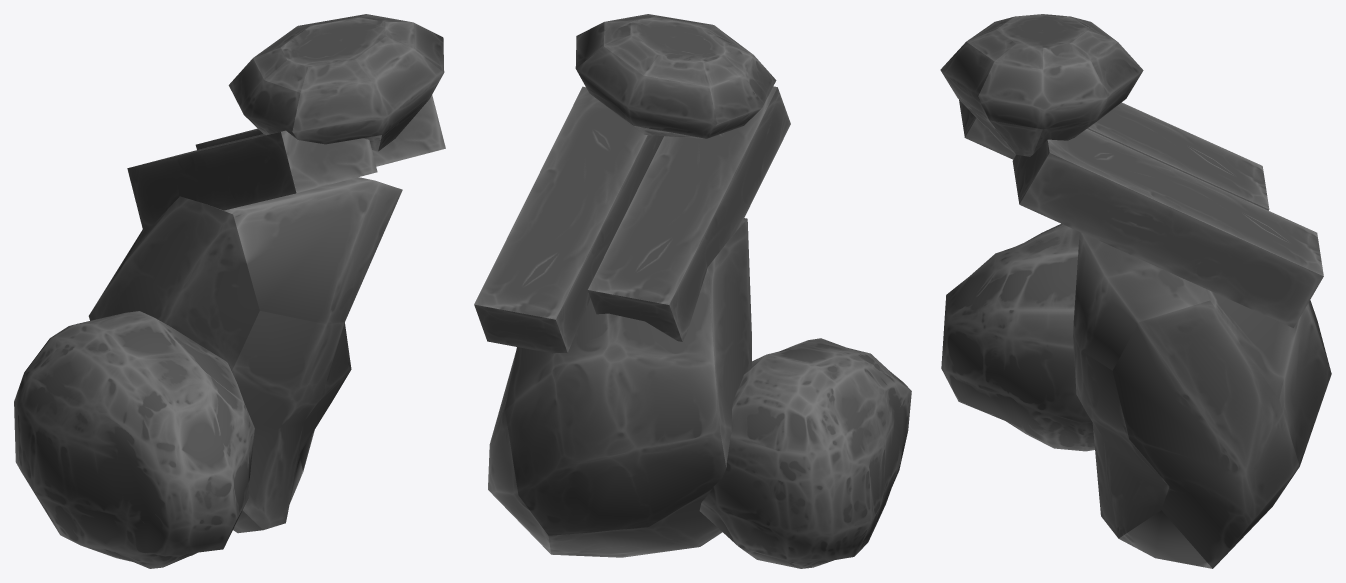
The model's file is PFB_GreatWaterFall.fbx.
3 views of the same model, side by side, from view 1: azimuth 30°, elevation 25°; view 2: azimuth 150°, elevation 25°; view 3: azimuth 270°, elevation 25° (orthographic). The views are drawn at different scales.
Visible parts, largest first — view 1: MSH_cailloux_deforme_1, MSH_cailloux_gros, MSH_cailloux_petit, MSH_cailloux_rectangulaire__10_, MSH_cailloux_rectangulaire__9_; view 2: MSH_cailloux_deforme_1, MSH_cailloux_gros, MSH_cailloux_rectangulaire__9_, MSH_cailloux_rectangulaire__10_, MSH_cailloux_petit; view 3: MSH_cailloux_deforme_1, MSH_cailloux_rectangulaire__9_, MSH_cailloux_gros, MSH_cailloux_petit, MSH_cailloux_rectangulaire__10_.
Boxes of the visible parts, bbox=[...] form: MSH_cailloux_deforme_1: bbox=[88, 177, 402, 533]; MSH_cailloux_gros: bbox=[14, 311, 254, 568]; MSH_cailloux_petit: bbox=[228, 14, 444, 151]; MSH_cailloux_rectangulaire__10_: bbox=[127, 130, 377, 229]; MSH_cailloux_rectangulaire__9_: bbox=[195, 95, 445, 166]; MSH_cailloux_deforme_1: bbox=[488, 218, 751, 557]; MSH_cailloux_gros: bbox=[699, 338, 911, 568]; MSH_cailloux_rectangulaire__9_: bbox=[474, 86, 663, 353]; MSH_cailloux_rectangulaire__10_: bbox=[588, 86, 790, 341]; MSH_cailloux_petit: bbox=[575, 14, 776, 138]; MSH_cailloux_deforme_1: bbox=[1073, 232, 1331, 568]; MSH_cailloux_rectangulaire__9_: bbox=[1012, 129, 1323, 327]; MSH_cailloux_gros: bbox=[941, 223, 1094, 451]; MSH_cailloux_petit: bbox=[940, 14, 1143, 156]; MSH_cailloux_rectangulaire__10_: bbox=[959, 100, 1269, 210].
Size of the model in its own units: 3648 by 5033 by 3352.
Materials: 4 (4 with a texture image).
